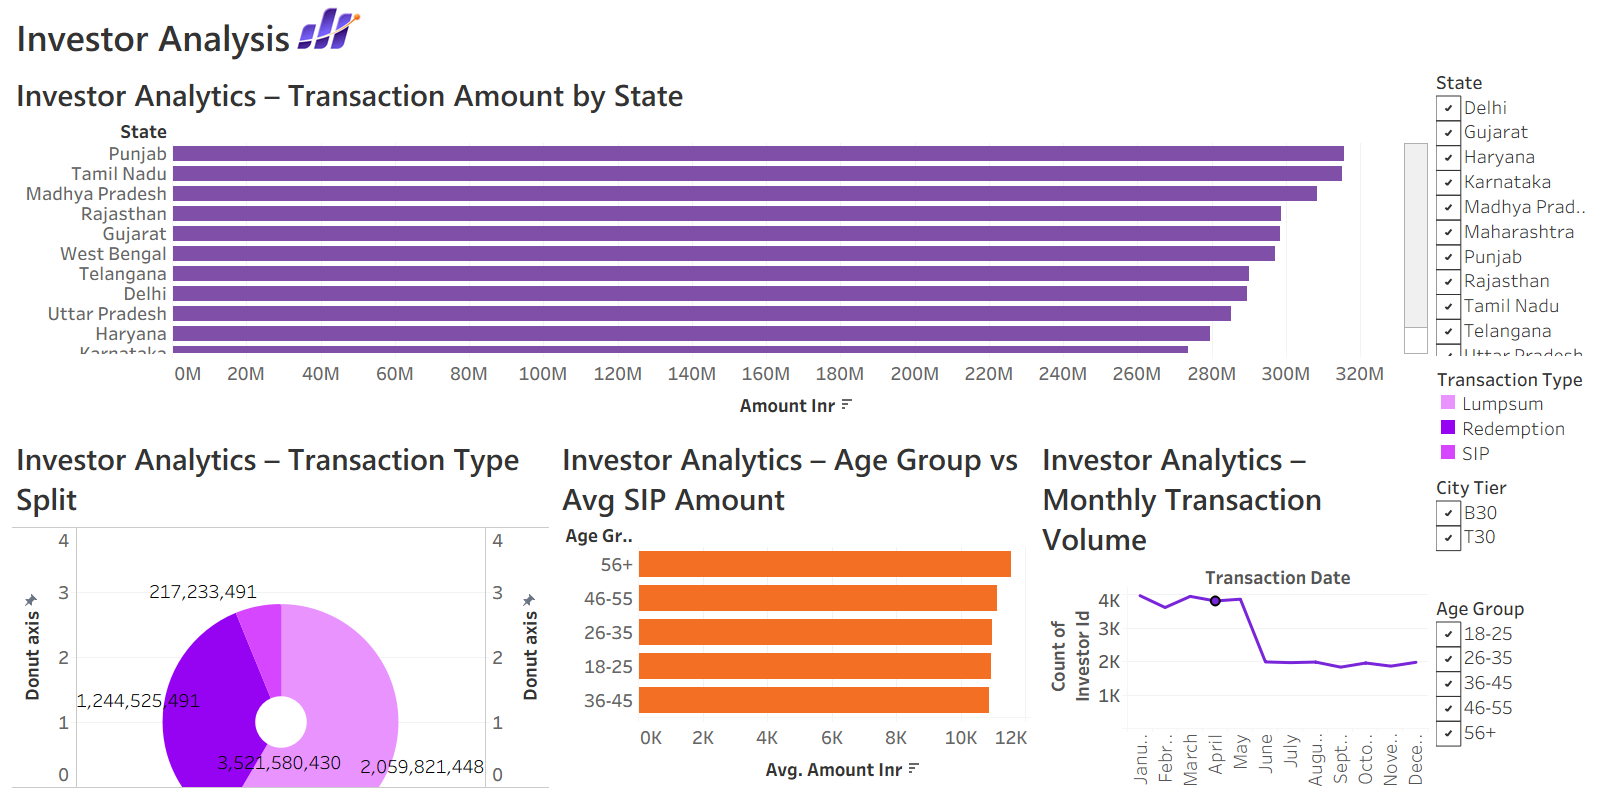

The dashboard page shown, as its layout file describes it:
{"tool":"tableau","page":{"name":"Investor Analytics","canvas":[1600,800],"ordinal":2},"visuals":[{"type":"title","box":[8,8,1584,56]},{"type":"worksheet","title":"Investor Analytics – Transaction Amount by State","mark":"Bar","rows":["state"],"cols":["amount_inr"],"box":[8,64,1424,364]},{"type":"filter","title":"Investor Analytics – Transaction Amount by State","param":"[federated.0onc4mv15nq22e12pxpsy1dv15kl].[none:state:nk]","box":[1432,64,160,296]},{"type":"legend","title":"Investor Analytics – Transaction Type Split","param":"[federated.0onc4mv15nq22e12pxpsy1dv15kl].[none:transaction_type:nk]","box":[1432,360,160,109]},{"type":"worksheet","title":"Investor Analytics – Transaction Type Split","mark":"Pie","rows":["Calculation_0960192596246528","Calculation_0960192596246528"],"box":[8,428,546,364]},{"type":"worksheet","title":"Investor Analytics – Age Group vs Avg SIP Amount","mark":"Bar","rows":["age_group"],"cols":["amount_inr"],"box":[554,428,480,364]},{"type":"worksheet","title":"Investor Analytics – Monthly Transaction Volume","mark":"Line","rows":["investor_id"],"cols":["transaction_date"],"box":[1034,428,398,364]},{"type":"filter","title":"Investor Analytics – Age Group vs Avg SIP Amount","param":"[federated.0onc4mv15nq22e12pxpsy1dv15kl].[none:city_tier:nk]","box":[1432,469,160,121]},{"type":"filter","title":"Investor Analytics – Age Group vs Avg SIP Amount","param":"[federated.0onc4mv15nq22e12pxpsy1dv15kl].[none:age_group:nk]","box":[1432,590,160,202]}]}

Visuals, with their boxes in screenshot pixels (x1, y1, x2, y2), scaled from the page's 1600x800 canvas onto the 1600x800 screenshot:
title: bbox(8, 8, 1592, 64)
"Investor Analytics – Transaction Amount by State" worksheet (Bar marks): bbox(8, 64, 1432, 428)
"Investor Analytics – Transaction Amount by State" filter: bbox(1432, 64, 1592, 360)
"Investor Analytics – Transaction Type Split" legend: bbox(1432, 360, 1592, 469)
"Investor Analytics – Transaction Type Split" worksheet (Pie marks): bbox(8, 428, 554, 792)
"Investor Analytics – Age Group vs Avg SIP Amount" worksheet (Bar marks): bbox(554, 428, 1034, 792)
"Investor Analytics – Monthly Transaction Volume" worksheet (Line marks): bbox(1034, 428, 1432, 792)
"Investor Analytics – Age Group vs Avg SIP Amount" filter: bbox(1432, 469, 1592, 590)
"Investor Analytics – Age Group vs Avg SIP Amount" filter: bbox(1432, 590, 1592, 792)
